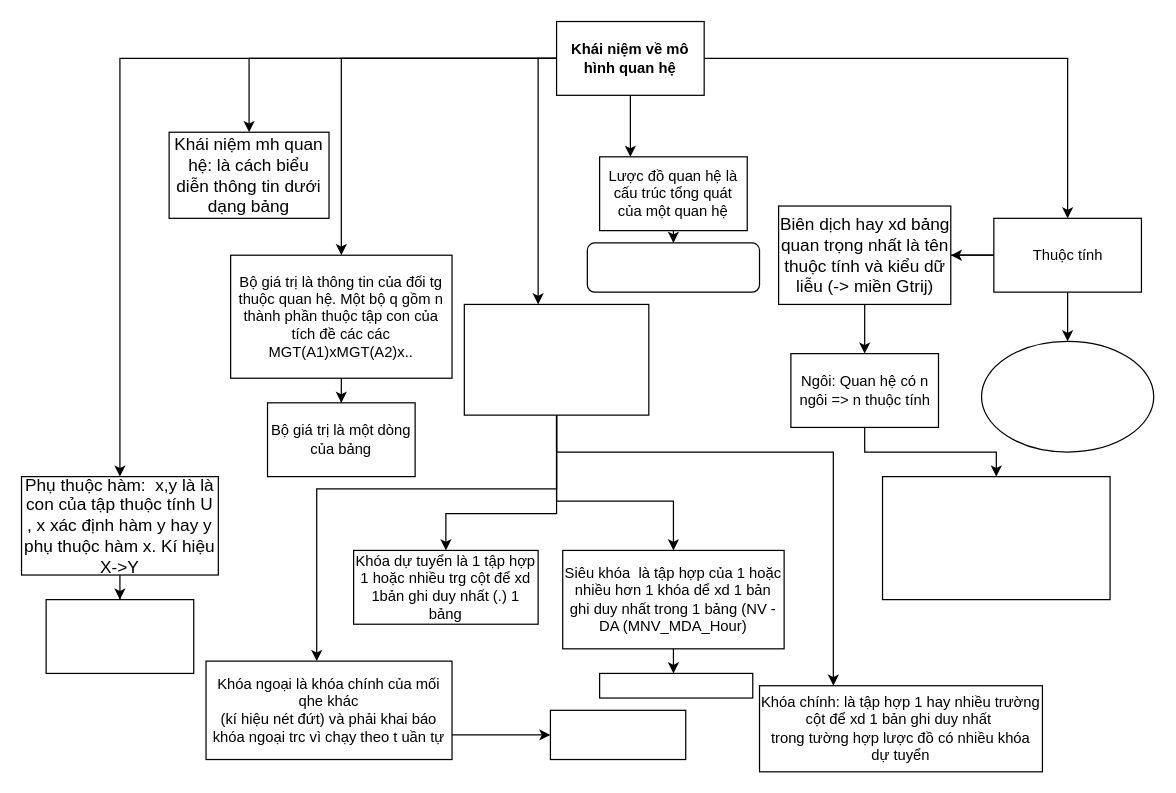
Image size: 1176x793. Some labels were removed from this diagram. The centre of each missing label's shape, as x and y in pixels:
CSDL có bao nh bảng bấy nhiêu lược đồ: point 673,267
Khóa là thuộc tính duy nhất của đtg cụ thể (Khóa ko chỉ là 1 thuộc tính): point 556,359
Là một tính chất riêng biệt của đtg cần lưu trữ trong CSDL: point 1067,396
MaSV, TenSV: point 675,685
MaSV, TenSV, MaLop: point 617,734
Qh Khoa: MaKhoa -> Ten Khoa: point 119,635
x là tích đề các * là phép kết nối Ai là 1 thuộc tính có miền giá trị là MGT(Ai): point 995,537
